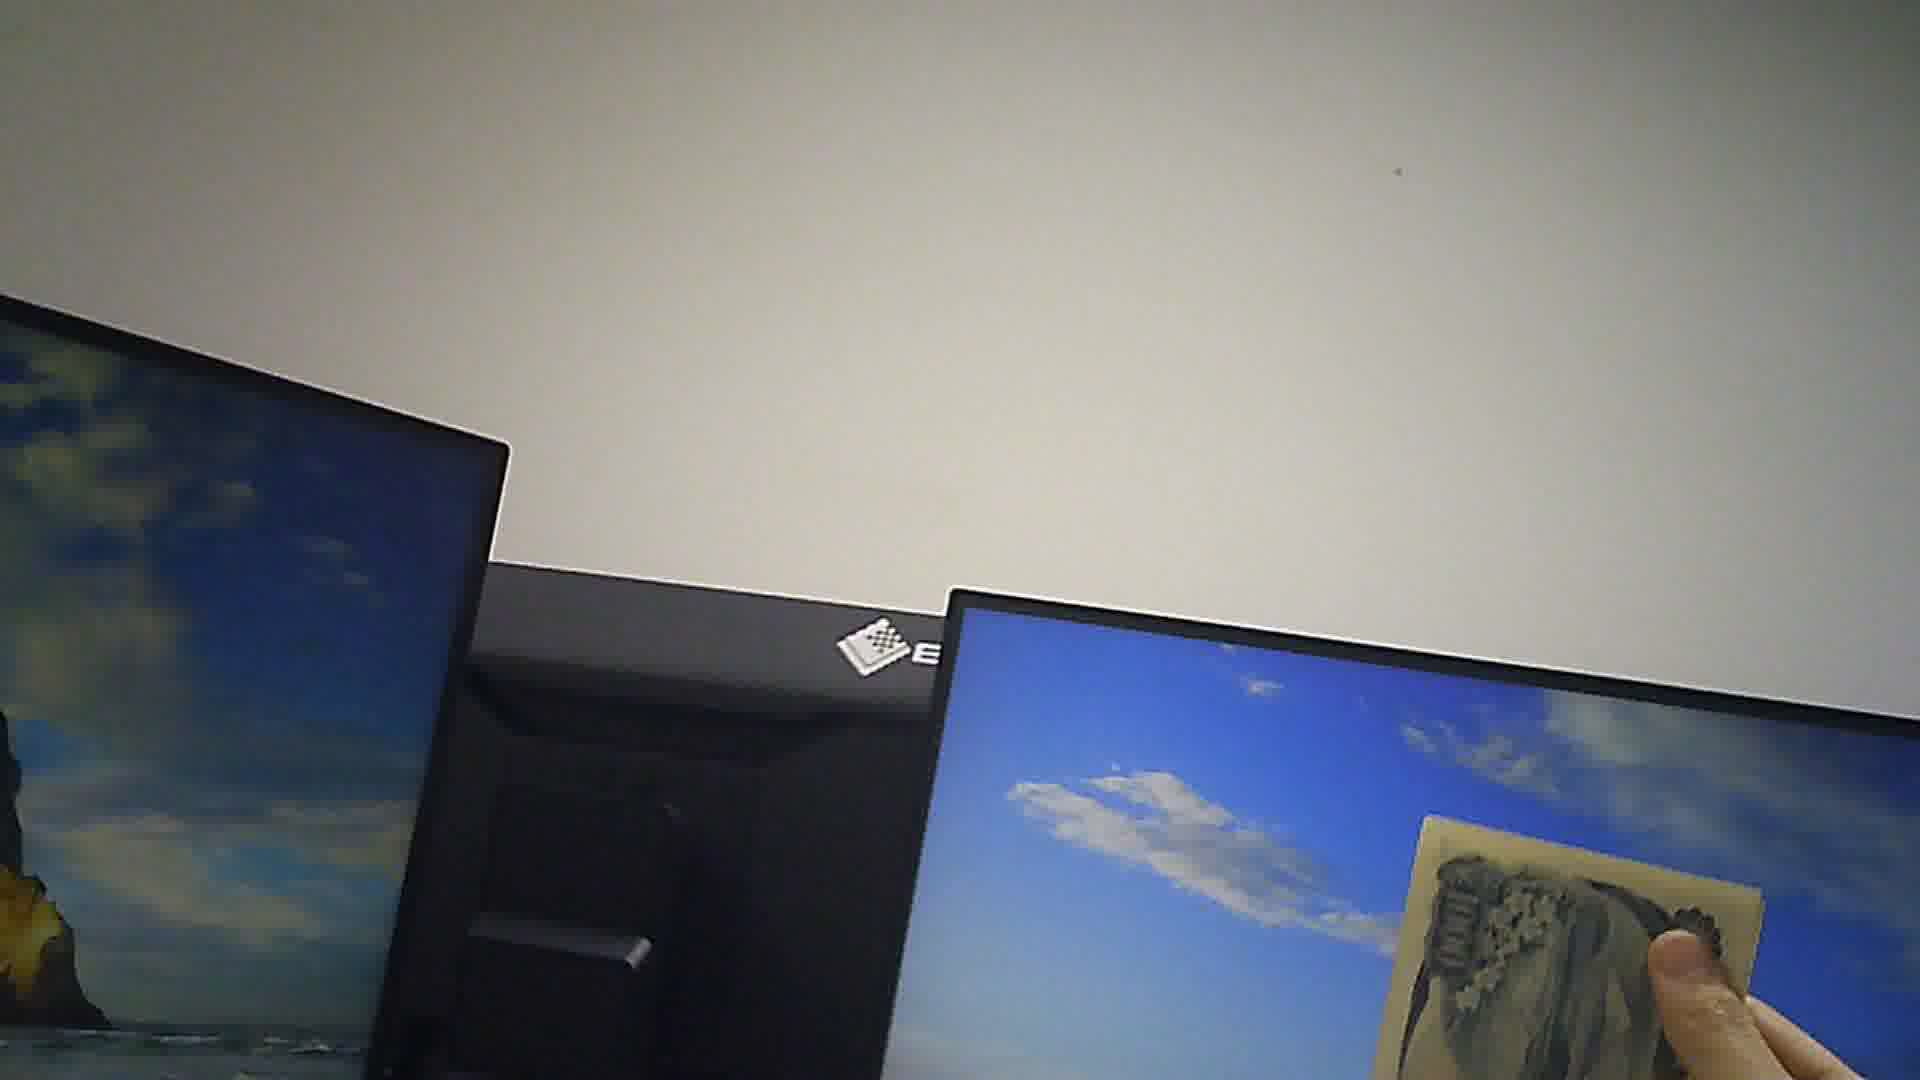1,000 Yen: (1369, 800, 1756, 1079)
